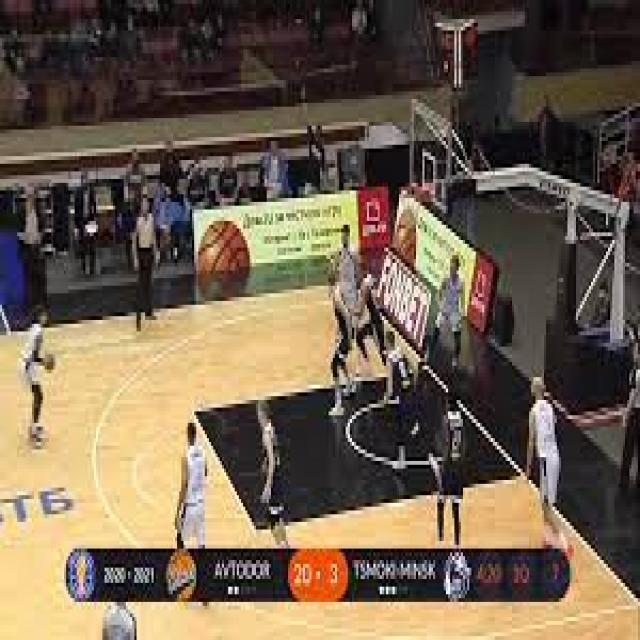rim: (42, 351, 56, 374)
